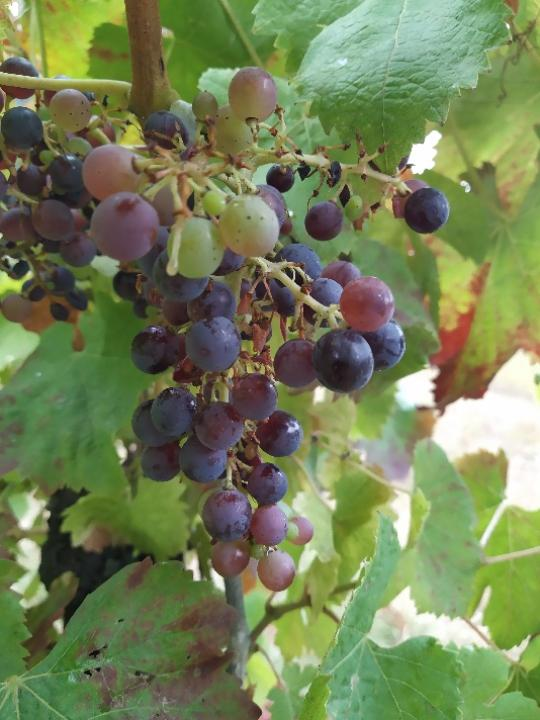grape: (0, 53, 453, 595)
